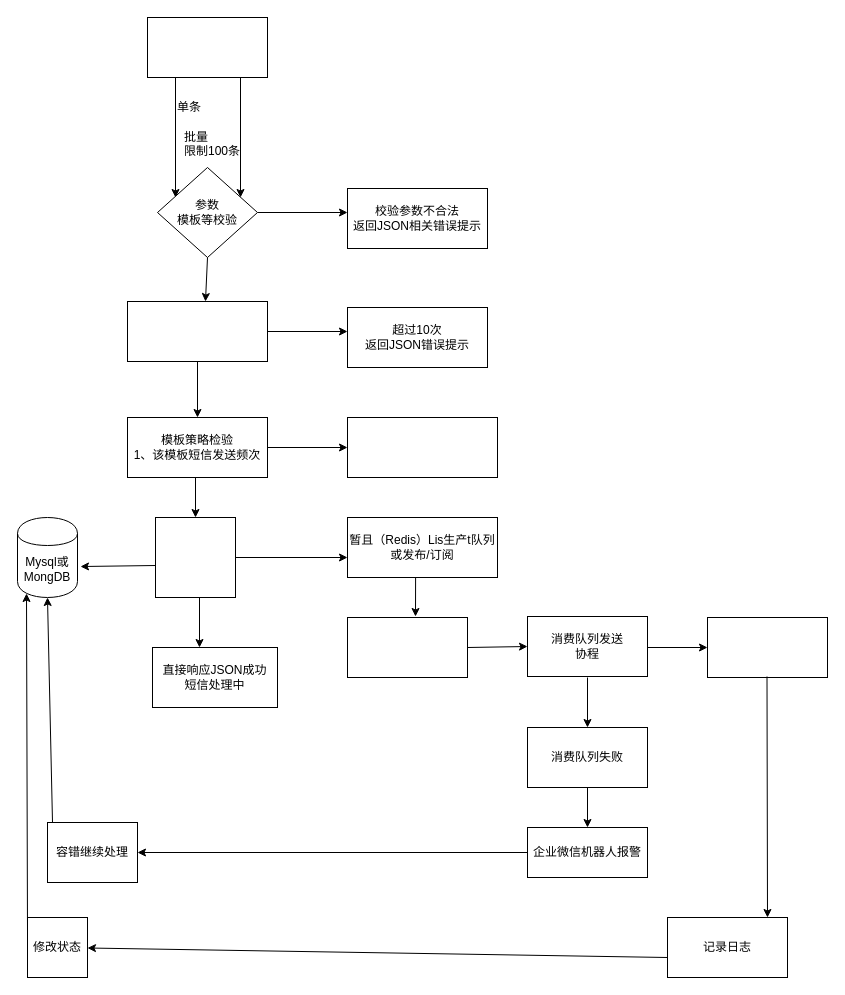
This 845x995 diagram has some shape labels left out. Here are the shapes that lost their labels. From the top down, the centre of each, then its label:
At (x=207, y=47): "发送消息 HTTP协议".
At (x=197, y=331): "检索手机号24H发送次数 (次数累加存储Redis 总次数在配置文件)".
At (x=422, y=447): "不符合模板策略 返回JSON错误提示".
At (x=195, y=557): "协程处理".
At (x=407, y=647): "发送".
At (x=767, y=647): "发送成功".
